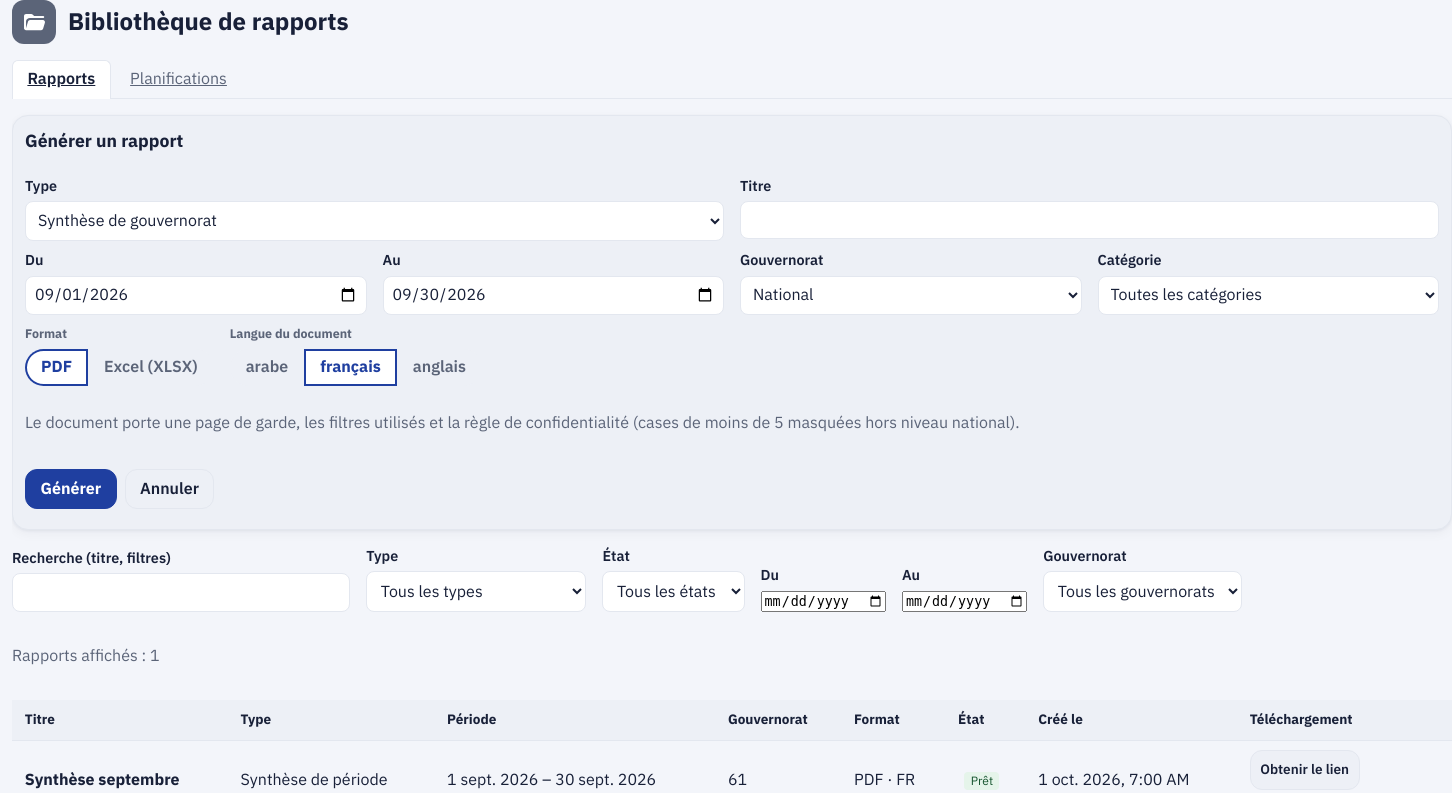
Test: Reports library › lists reports, opens the prefilled form and sends it
The width and height of the screenshot is (1452, 793).
Expected: the text "Prêt" is shown, x1=964 y1=772 x2=1000 y2=790
Click the button with aria-label "Synthèse septembre" at (1305, 770), box x1=1250 y1=750 x2=1360 y2=790
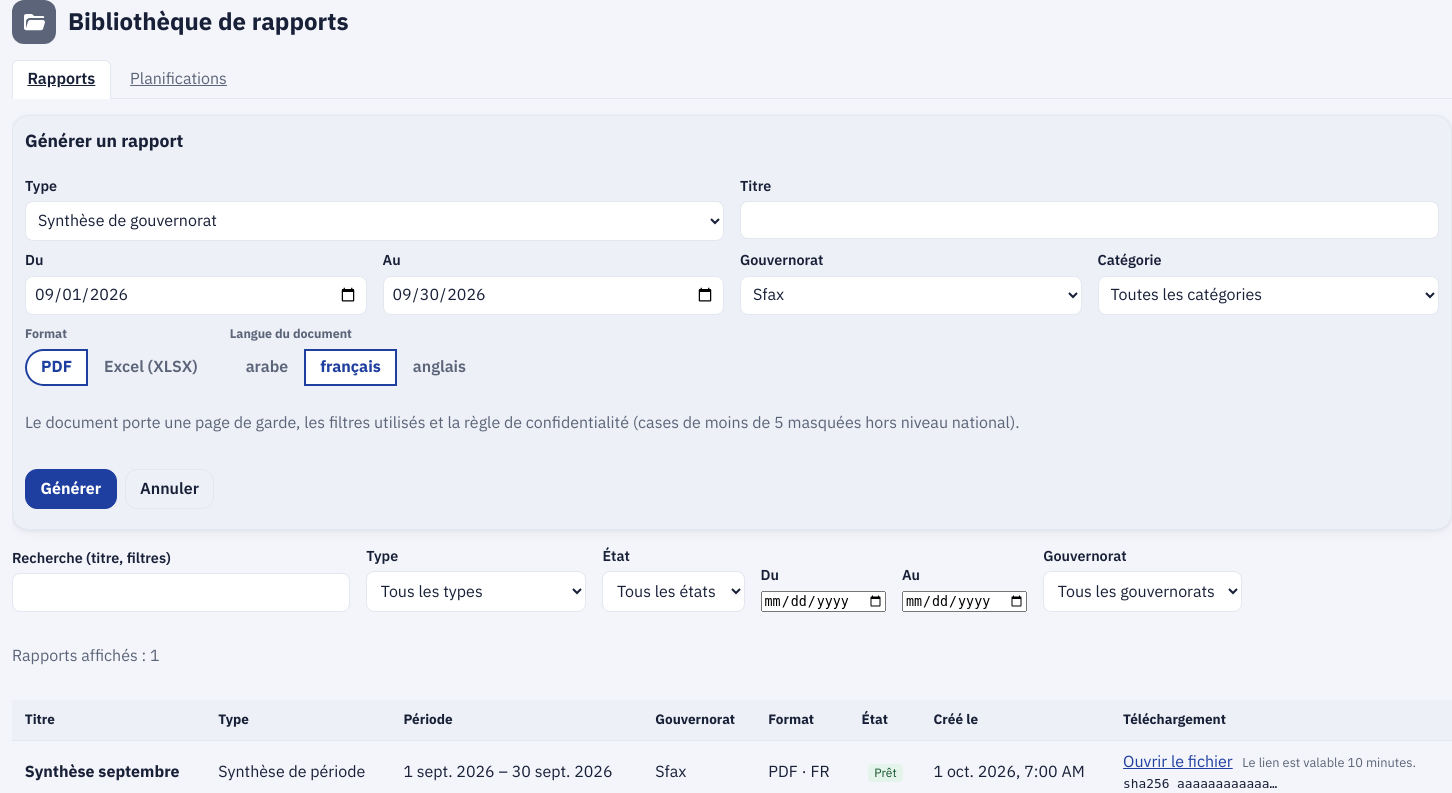
Expected: the dropdown labelled "Type" below "Générer un rapport" shows "Synthèse de gouvernorat", x1=25 y1=201 x2=724 y2=241
Click the button "Générer" at (71, 489), box x1=25 y1=469 x2=117 y2=509
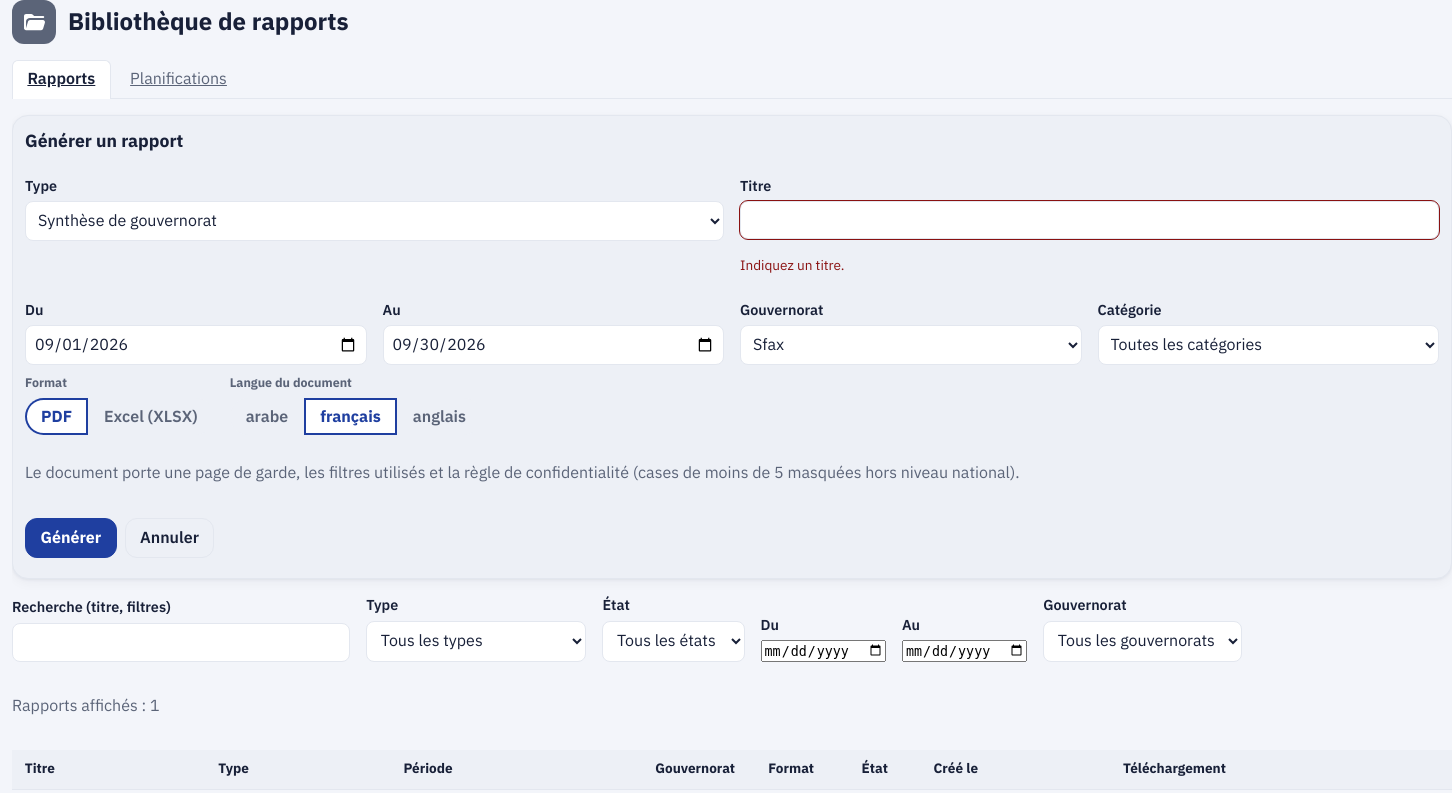
Expected: the text "Indiquez un titre." is shown, x1=740 y1=255 x2=844 y2=276
Type "Sfax septembre" into the field labelled "Titre" at (1090, 220), box x1=740 y1=201 x2=1439 y2=239
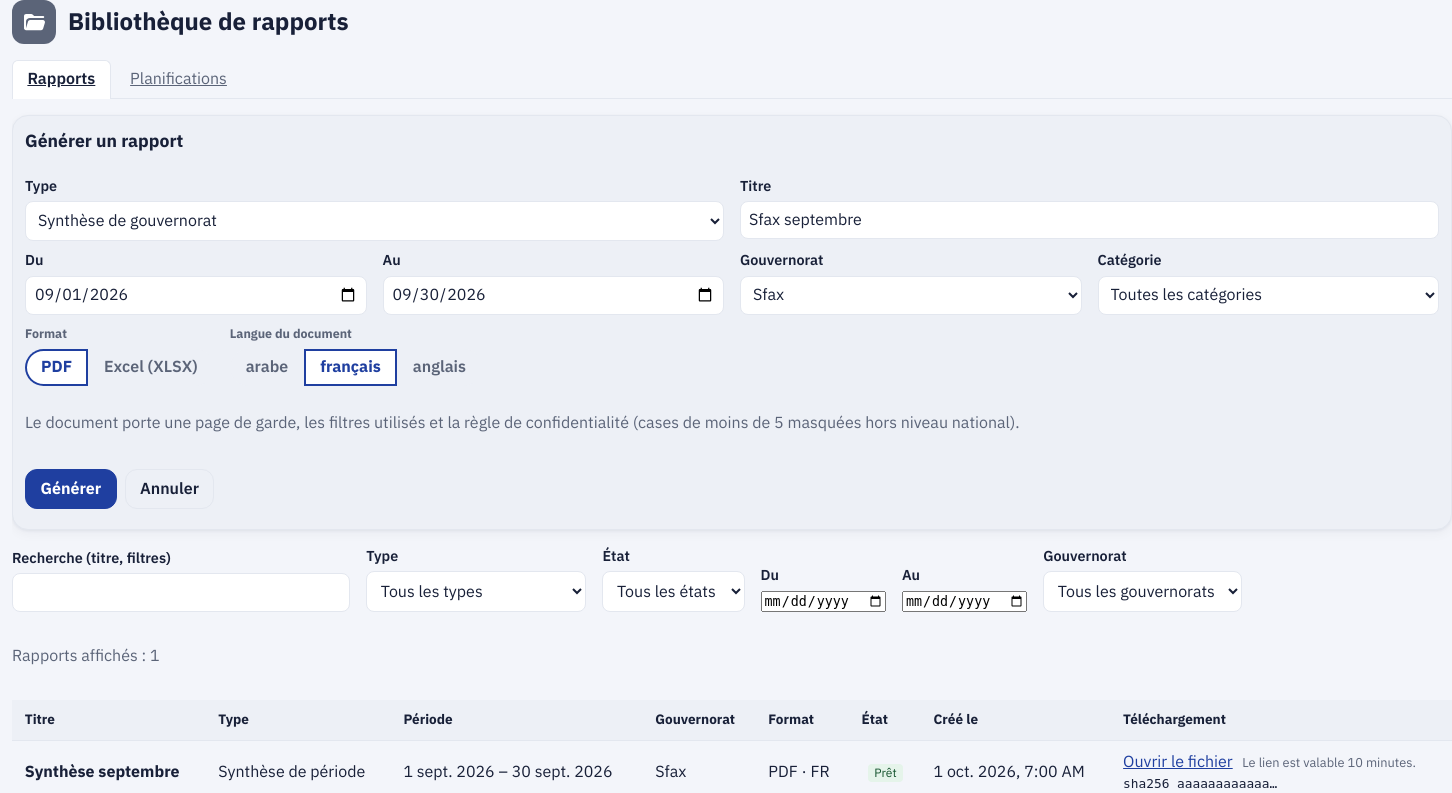
Click the radio button labelled "Excel (XLSX)" at (151, 367), box x1=88 y1=349 x2=214 y2=386
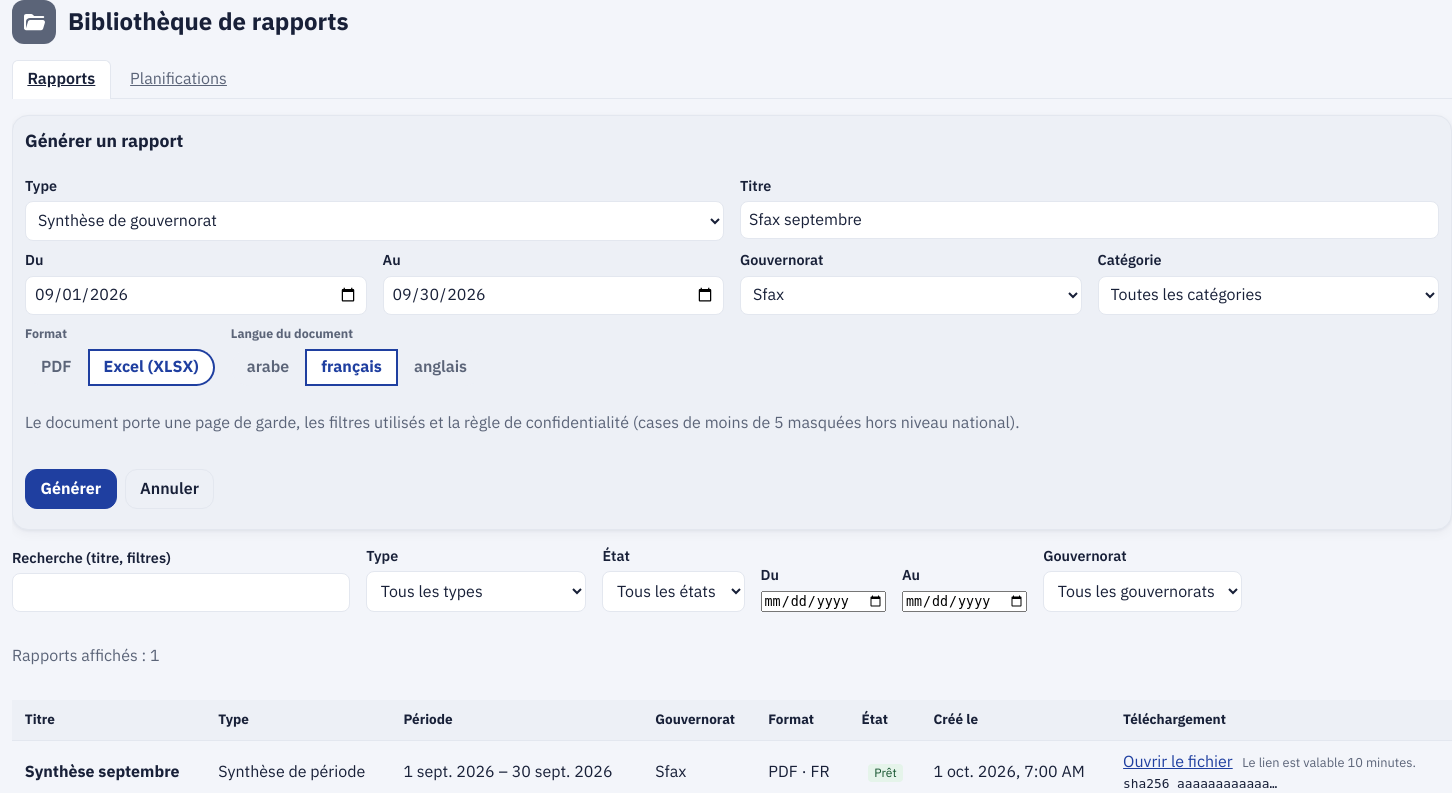
Click the button "Générer" at (71, 489), box x1=25 y1=469 x2=117 y2=509
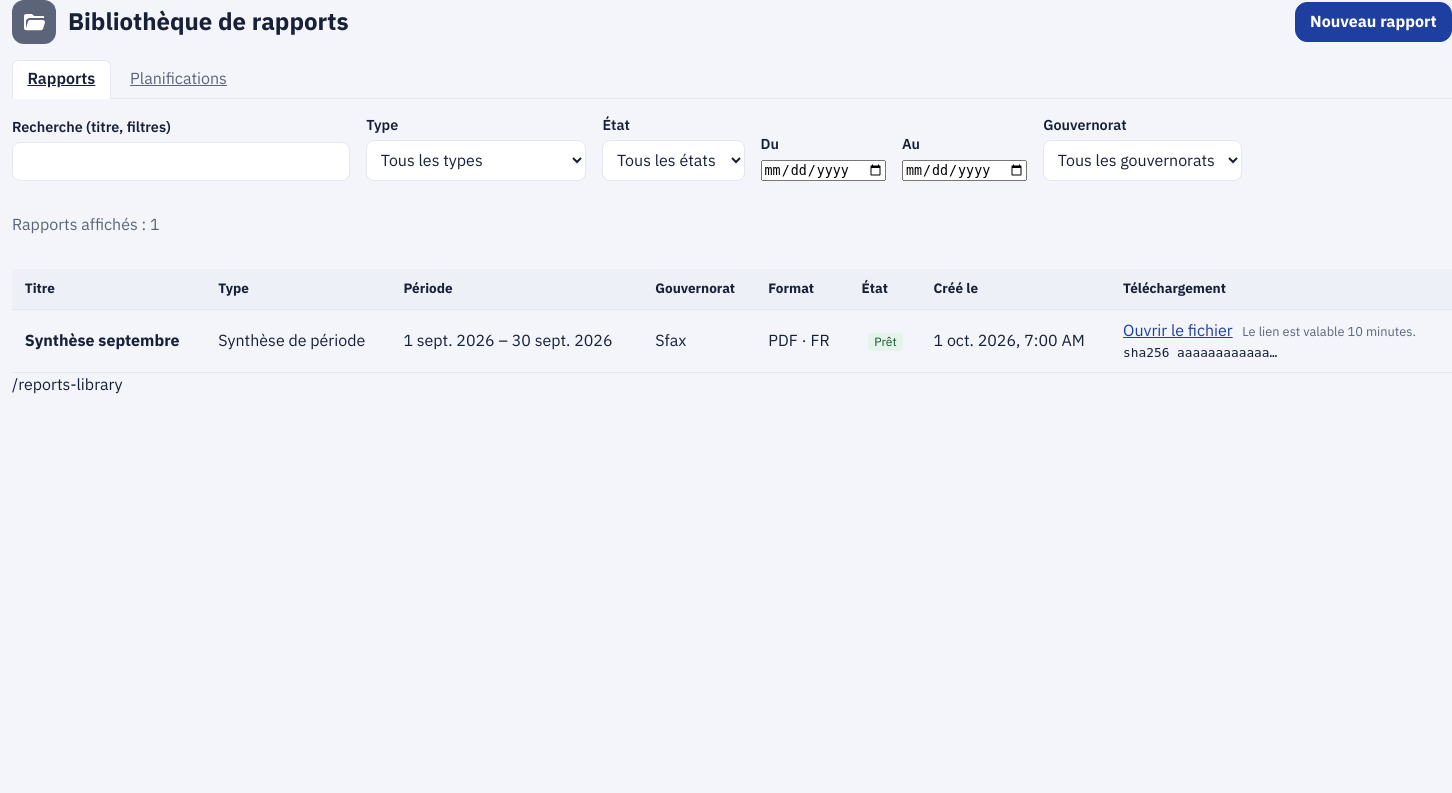
Expected: the heading "Générer un rapport" is gone
